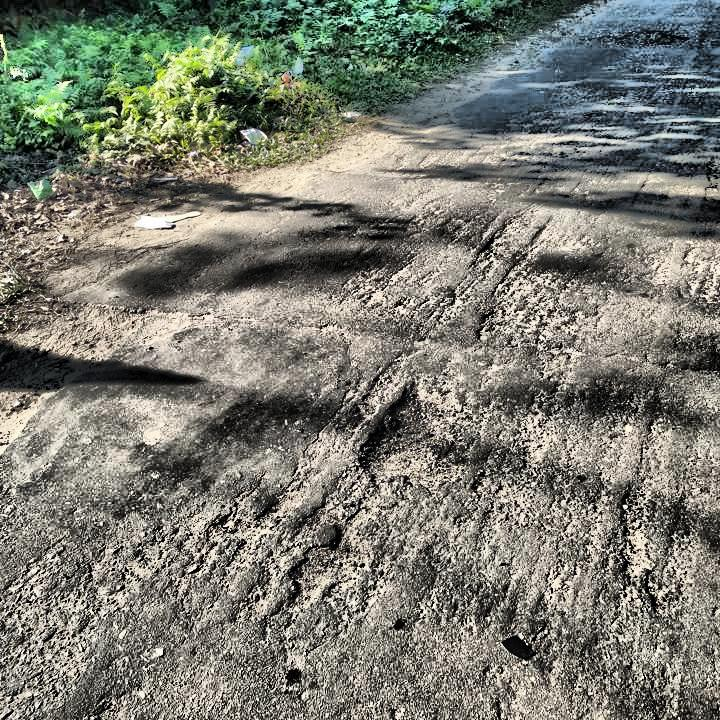pothole: (353, 379, 448, 482), (282, 530, 367, 605), (614, 23, 685, 51)
